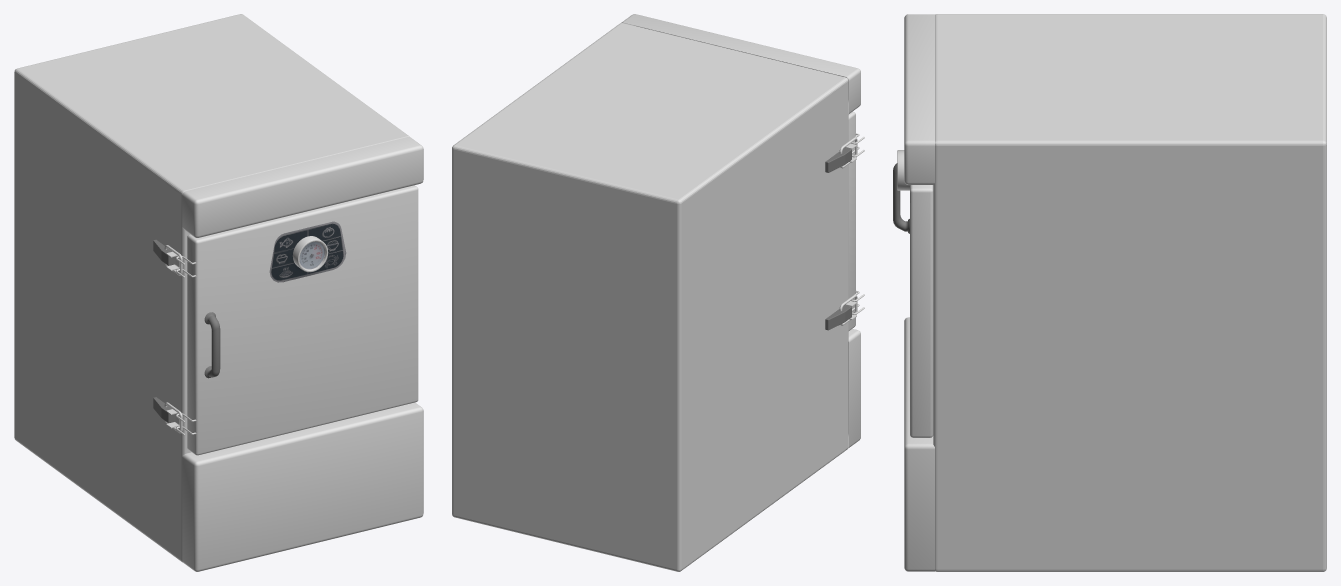
File: Steamer.fbx
3 views of the same model, side by side, from view 1: azimuth 30°, elevation 25°; view 2: azimuth 150°, elevation 25°; view 3: azimuth 270°, elevation 25° (orthographic). The views are drawn at different scales.
Parts seen in each view (by area): view 1: Steamer, Pintu Steamer; view 2: Steamer, Pintu Steamer; view 3: Steamer, Pintu Steamer.
Part boxes in pixels (x1,y1,x2,y2): Steamer: [14, 14, 423, 571]; Pintu Steamer: [176, 185, 418, 455]; Steamer: [452, 14, 860, 571]; Pintu Steamer: [848, 111, 864, 330]; Steamer: [904, 14, 1326, 571]; Pintu Steamer: [893, 150, 933, 437].
Bounding box in the file's own units: 60.44 × 89.98 × 82.1.
1 material, 1 textured.
